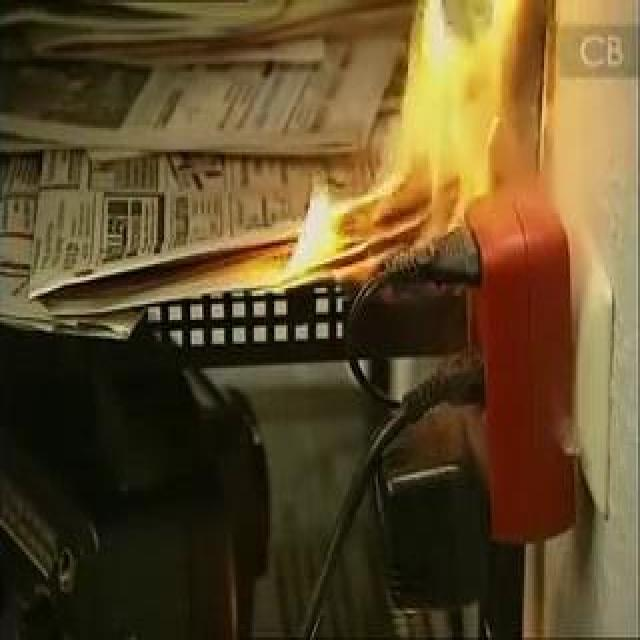Fire: (215, 3, 533, 312)
